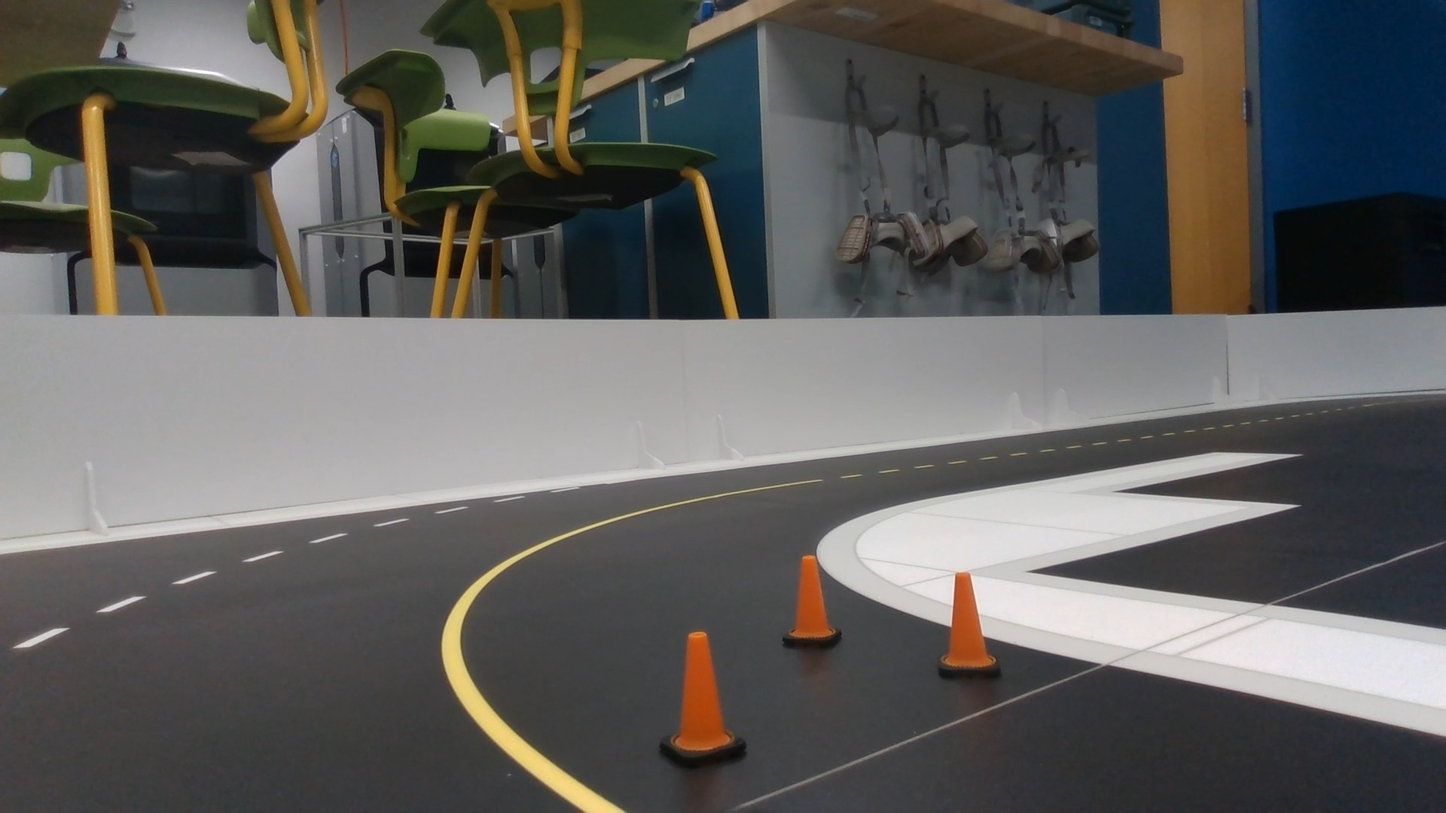Traffic Cone: (660, 632, 745, 766), (938, 573, 1000, 678), (782, 556, 840, 647)
